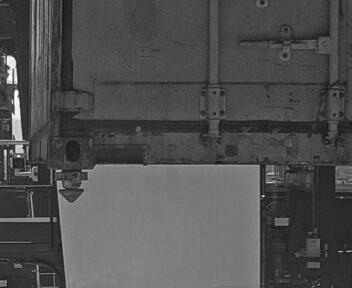twist_lock_2: (47, 167, 95, 209)
